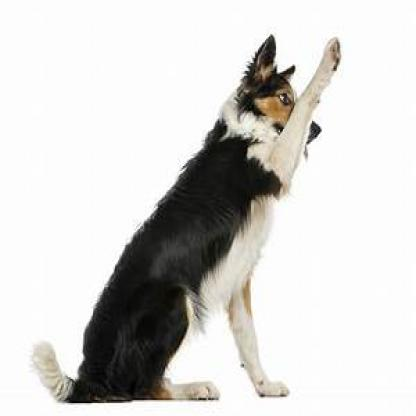dog: (34, 32, 346, 403)
